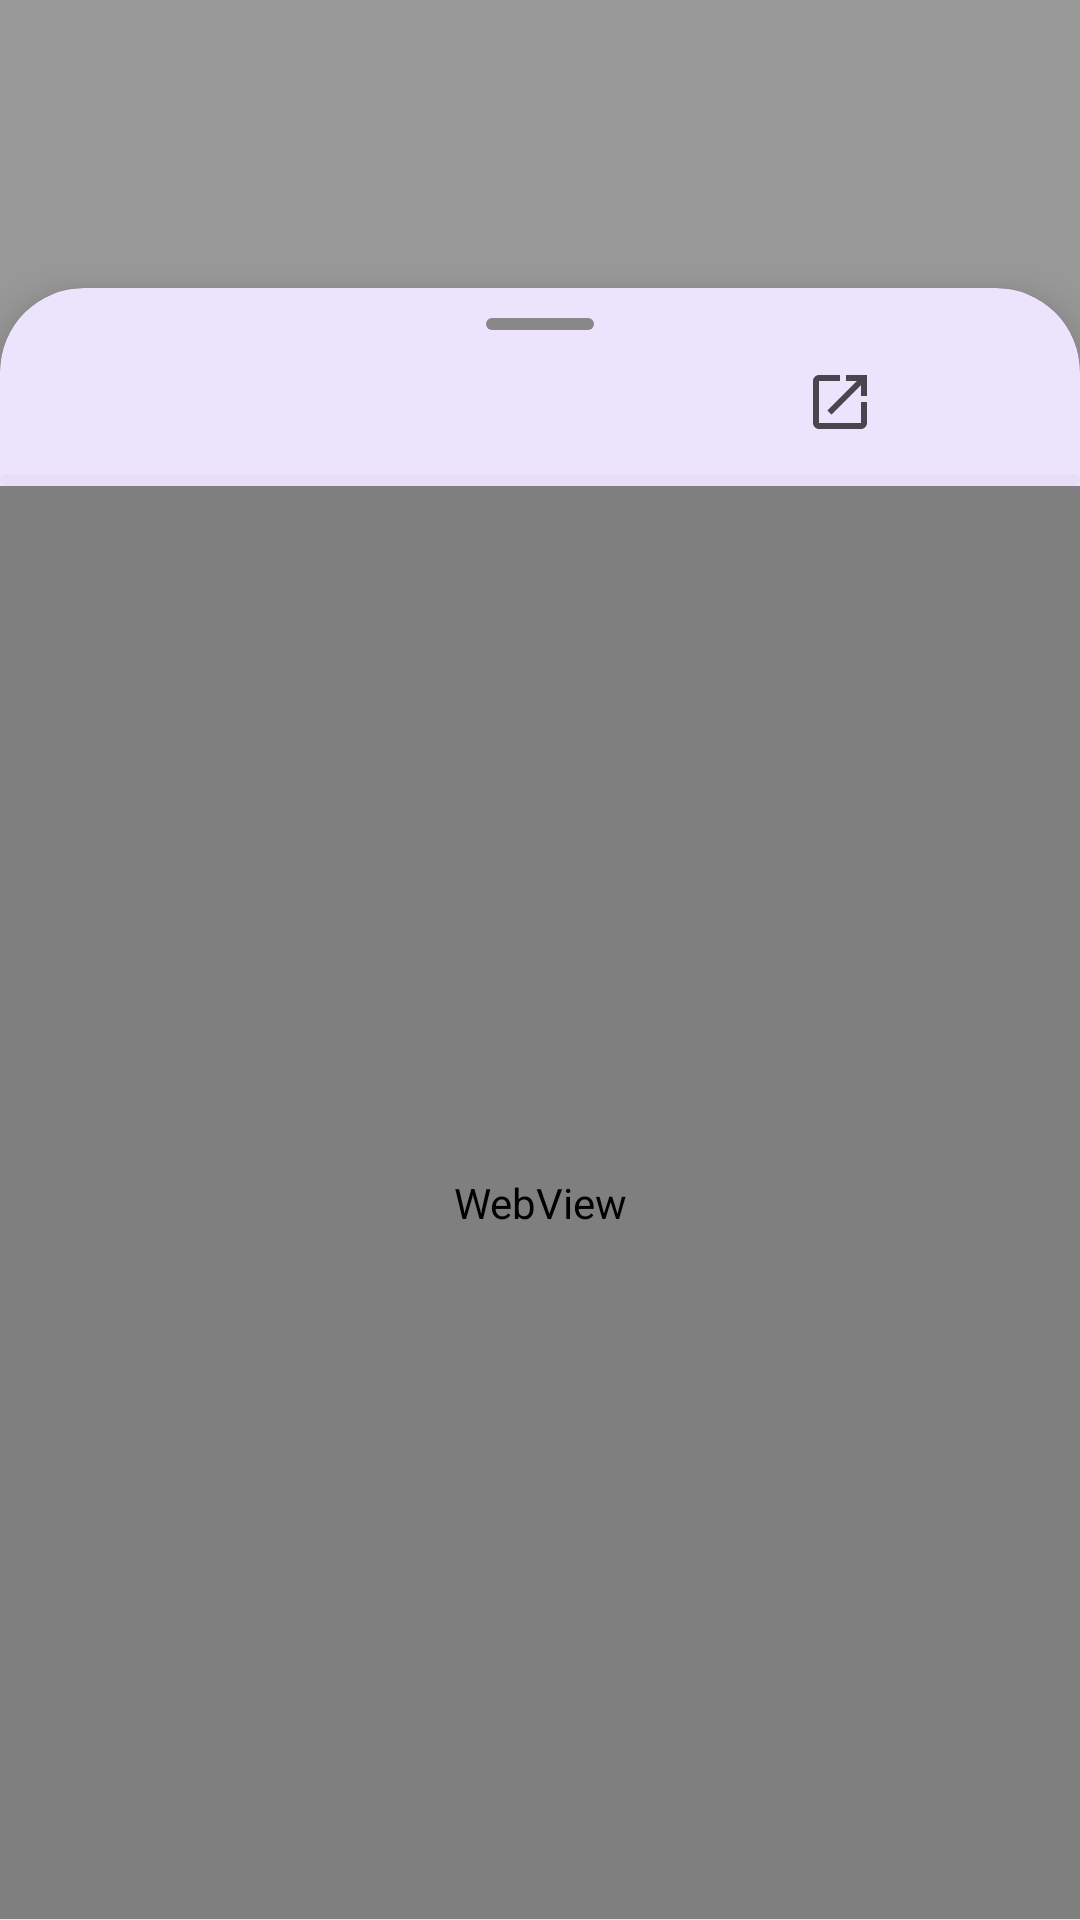

Locate icon controls on the screen. Image size 1080px x 1920px, boxes as [x1=x1, y1=y1, x2=x2, y2=y2].
Open in browser: [x1=813, y1=375, x2=867, y2=429]
